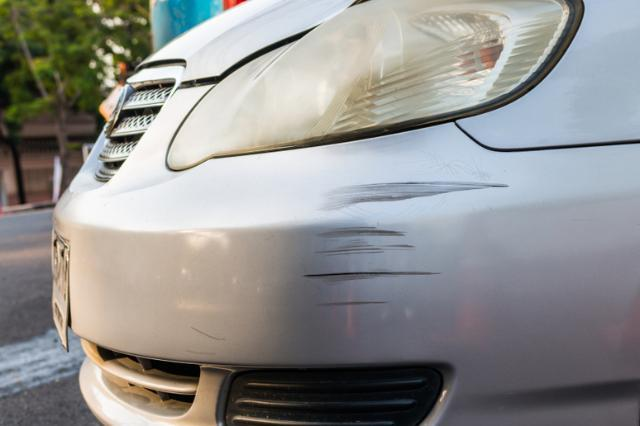Bumper: (289, 160, 526, 330)
